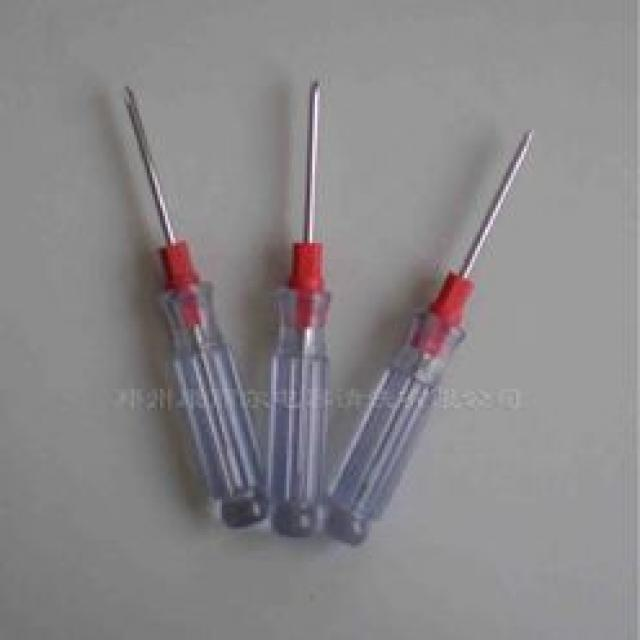screwdriver: (327, 118, 538, 563), (112, 82, 271, 531), (257, 79, 363, 562)
